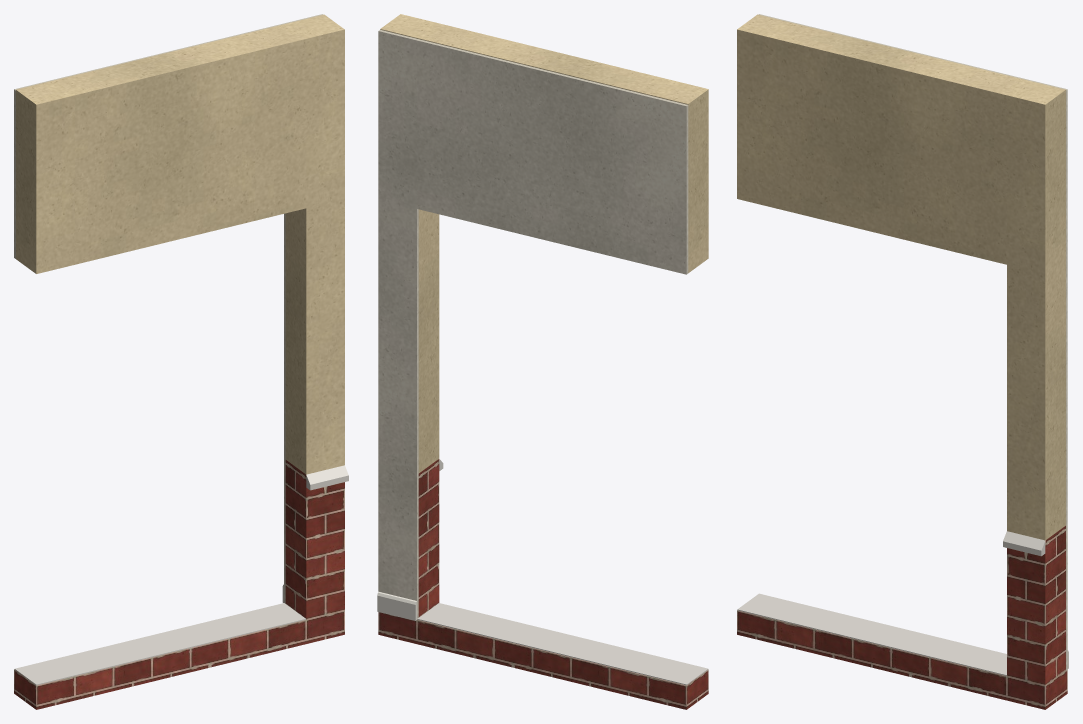
The model's file is w_open_b.glb.
3 views of the same model, side by side, from view 1: azimuth 30°, elevation 25°; view 2: azimuth 150°, elevation 25°; view 3: azimuth 330°, elevation 25° (orthographic).
Visible parts, largest first — view 1: w_open_b_render, w_open_b_brick, w_open_b_cill, w_open_b_plaster; view 2: w_open_b_plaster, w_open_b_render, w_open_b_brick, w_open_b_cill, w_open_b_trim; view 3: w_open_b_render, w_open_b_brick, w_open_b_cill, w_open_b_plaster.
Boxes of the visible parts, left/top/right/bottom form: w_open_b_render: left=16, top=14, right=344, bottom=474; w_open_b_brick: left=14, top=460, right=344, bottom=709; w_open_b_cill: left=14, top=465, right=348, bottom=685; w_open_b_plaster: left=14, top=14, right=322, bottom=603; w_open_b_plaster: left=378, top=30, right=688, bottom=619; w_open_b_render: left=380, top=14, right=708, bottom=473; w_open_b_brick: left=378, top=459, right=708, bottom=709; w_open_b_cill: left=417, top=459, right=708, bottom=685; w_open_b_trim: left=377, top=591, right=416, bottom=620; w_open_b_render: left=737, top=14, right=1065, bottom=540; w_open_b_brick: left=737, top=526, right=1067, bottom=709; w_open_b_cill: left=737, top=531, right=1045, bottom=675; w_open_b_plaster: left=759, top=14, right=1067, bottom=670.
Size of the model in its own units: 2 by 3.75 by 0.311.
Materials: 5 (3 with a texture image).
